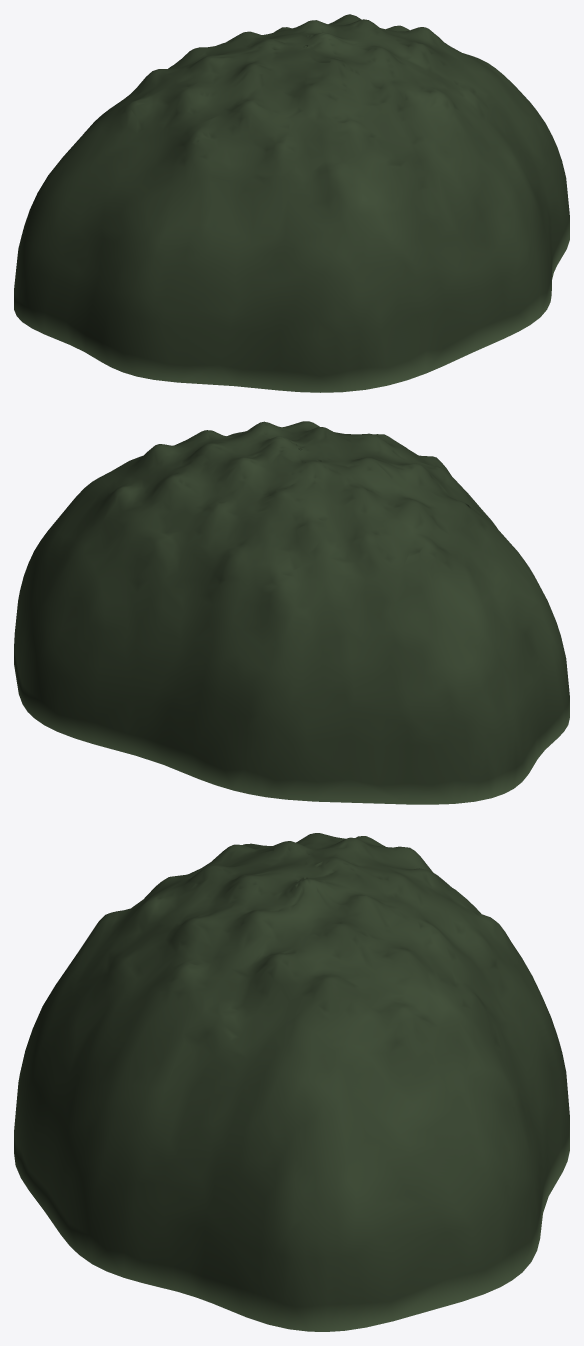
Rendered from massive-stromatoporoid-v2.lod1.glb.
3 renders of one model, top to bottom at view 1: azimuth 30°, elevation 25°; view 2: azimuth 150°, elevation 25°; view 3: azimuth 270°, elevation 25°, orthographic. The views are drawn at different scales.
Parts seen in each view (by area): view 1: massive-stromatoporoid-v2; view 2: massive-stromatoporoid-v2; view 3: massive-stromatoporoid-v2.
Part boxes in pixels (x1,y1,x2,y2): massive-stromatoporoid-v2: (14, 14, 569, 392); massive-stromatoporoid-v2: (14, 421, 569, 804); massive-stromatoporoid-v2: (14, 833, 569, 1331).
Size of the model in its own units: 1.19 by 0.5637 by 0.9251.
